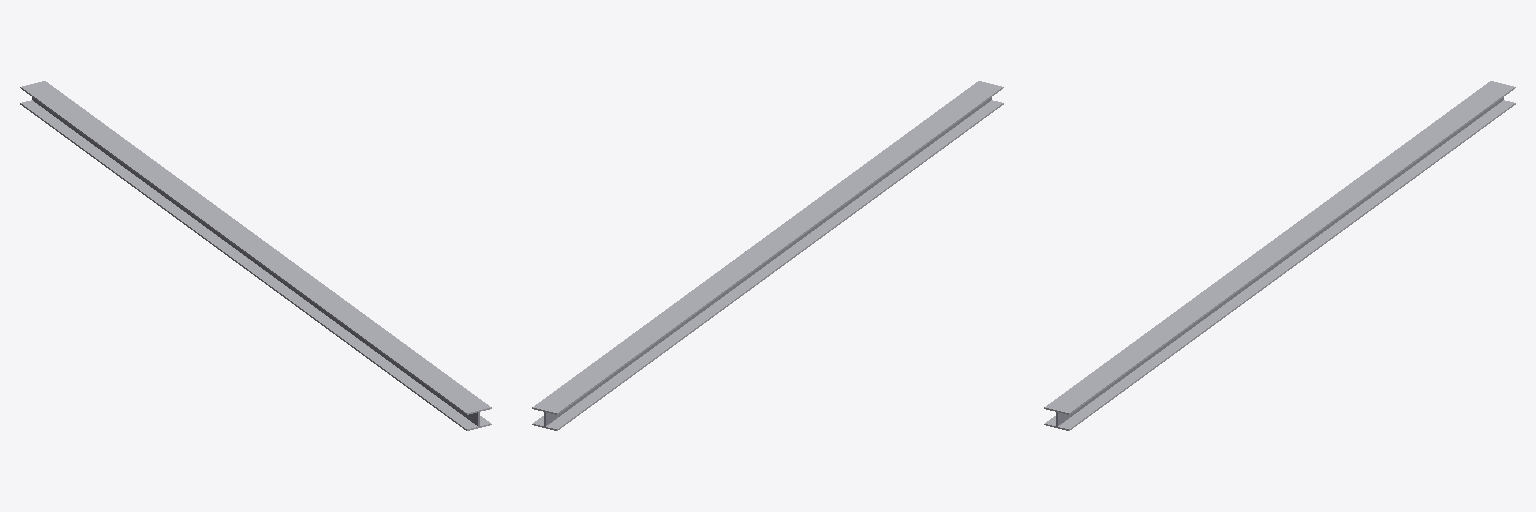
The robot description file, URDF, robot "h_bar":
<?xml version="1.0" ?>
<!-- =================================================================================== -->
<!-- |    This document was autogenerated by xacro from h_bar.xacro                    | -->
<!-- |    EDITING THIS FILE BY HAND IS NOT RECOMMENDED                                 | -->
<!-- =================================================================================== -->
<robot name="h_bar">
  <link name="world"/>
  <!-- Bottom leg (aligned with z-axis after rotation, below origin) -->
  <link name="hbar_bottom_leg">
    <visual>
      <origin rpy="0 1.57079633 0" xyz="0 0 0"/>
      <geometry>
        <!-- thickness x, profile width y, leg length along local z -->
        <box size="0.01 5.0 0.16"/>
      </geometry>
      <material name="hbar_material_bottom">
        <!-- Brushed steel-like gray -->
        <color rgba="0.75 0.75 0.78 1.0"/>
      </material>
    </visual>
    <collision>
      <origin rpy="0 1.57079633 0" xyz="0 0 0"/>
      <geometry>
        <box size="0.01 5.0 0.16"/>
      </geometry>
    </collision>
    <inertial>
      <origin rpy="0 0 0" xyz="0 0 0"/>
      <mass value="0.3333333333333333"/>
      <inertia ixx="0.6951555555555555" ixy="0.0" ixz="0.0" iyy="0.0007138888888888889" iyz="0.0" izz="0.6944472222222222"/>
    </inertial>
  </link>
  <!-- Top leg (aligned with z-axis after rotation, above origin) -->
  <link name="hbar_top_leg">
    <visual>
      <origin rpy="0 1.57079633 0" xyz="0 0 0"/>
      <geometry>
        <box size="0.01 5.0 0.16"/>
      </geometry>
      <material name="hbar_material_top">
        <!-- Brushed steel-like gray -->
        <color rgba="0.75 0.75 0.78 1.0"/>
      </material>
    </visual>
    <collision>
      <origin rpy="0 1.57079633 0" xyz="0 0 0"/>
      <geometry>
        <box size="0.01 5.0 0.16"/>
      </geometry>
    </collision>
    <inertial>
      <origin rpy="0 0 0" xyz="0 0 0"/>
      <mass value="0.3333333333333333"/>
      <inertia ixx="0.6951555555555555" ixy="0.0" ixz="0.0" iyy="0.0007138888888888889" iyz="0.0" izz="0.6944472222222222"/>
    </inertial>
  </link>
  <!-- Crossbar: vertical (aligned with z-axis) at the origin -->
  <link name="hbar_crossbar">
    <visual>
      <!-- Thickness in x,y, length in z -->
      <origin rpy="0 0 0" xyz="0 0 0"/>
      <geometry>
        <box size="0.01 5.0 0.1"/>
      </geometry>
      <material name="hbar_material_cross">
        <!-- Slightly darker steel for visual contrast -->
        <color rgba="0.65 0.65 0.7 1.0"/>
      </material>
    </visual>
    <collision>
      <origin rpy="0 0 0" xyz="0 0 0"/>
      <geometry>
        <box size="0.01 5.0 0.1"/>
      </geometry>
    </collision>
    <inertial>
      <origin rpy="0 0 0" xyz="0 0 0"/>
      <mass value="0.3333333333333333"/>
      <inertia ixx="0.6947222222222222" ixy="0.0" ixz="0.0" iyy="0.0002805555555555556" iyz="0.0" izz="0.6944472222222222"/>
    </inertial>
  </link>
  <!-- Fix crossbar to world; its center is at the macro pose -->
  <joint name="hbar_cross_fix" type="fixed">
    <parent link="world"/>
    <child link="hbar_crossbar"/>
    <origin rpy="0 0 0" xyz="0 0 0"/>
  </joint>
  <!-- Top leg: translated +L_leg/2 in x and +L_span/2 in z relative to crossbar -->
  <joint name="hbar_top_fix" type="fixed">
    <parent link="hbar_crossbar"/>
    <child link="hbar_top_leg"/>
    <origin rpy="0 0.0 0" xyz="0 0 0.05"/>
  </joint>
  <!-- Bottom leg: translated +L_leg/2 in x and -L_span/2 in z relative to crossbar -->
  <joint name="hbar_bottom_fix" type="fixed">
    <parent link="hbar_crossbar"/>
    <child link="hbar_bottom_leg"/>
    <origin rpy="0 0 0" xyz="0 0 -0.05"/>
  </joint>
</robot>

--- What the picture shows (computed from the rendered views, not written in the file) ---
Views: 3 orthographic renders of the robot side by side, from view 1: azimuth 30°, elevation 25°; view 2: azimuth 150°, elevation 25°; view 3: azimuth 330°, elevation 25°.
Robot: h_bar — 4 links, 3 joints (3 fixed); root link world; default pose: every joint at zero.
Visible links, largest first — view 1: hbar_top_leg, hbar_bottom_leg, hbar_crossbar; view 2: hbar_top_leg, hbar_bottom_leg, hbar_crossbar; view 3: hbar_top_leg, hbar_bottom_leg, hbar_crossbar.
Link boxes in pixels (box(x1,y1,x2,y2)): hbar_top_leg: box(20, 81, 491, 414); hbar_bottom_leg: box(20, 100, 491, 430); hbar_crossbar: box(32, 97, 479, 426); hbar_top_leg: box(532, 81, 1003, 414); hbar_bottom_leg: box(532, 100, 1003, 430); hbar_crossbar: box(544, 97, 991, 426); hbar_top_leg: box(1044, 81, 1515, 414); hbar_bottom_leg: box(1044, 100, 1515, 430); hbar_crossbar: box(1056, 97, 1503, 426).
Size in the robot's own frame: 0.16 by 5 by 0.11 metres.
Geometry: primitives only (box / cylinder / sphere), no mesh files.
